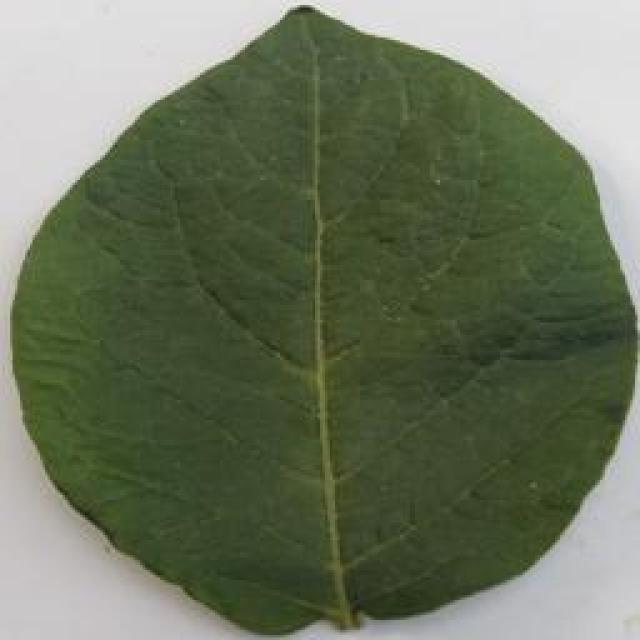Potato_Healthy: (7, 7, 640, 637)
